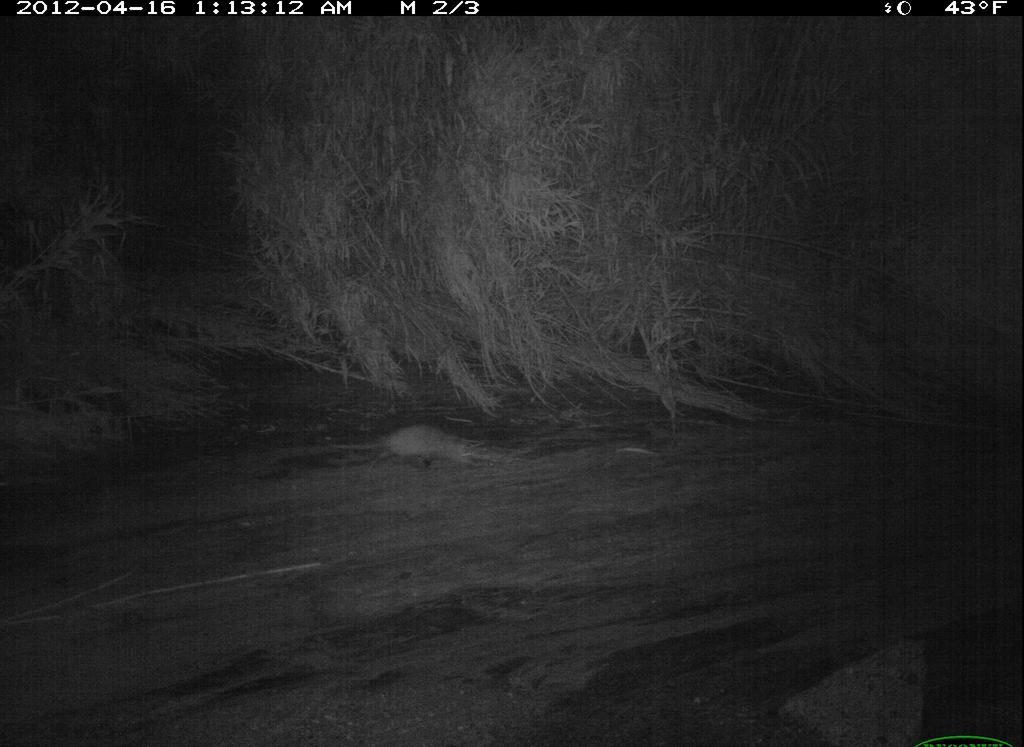opossum: (326, 409, 509, 481)
